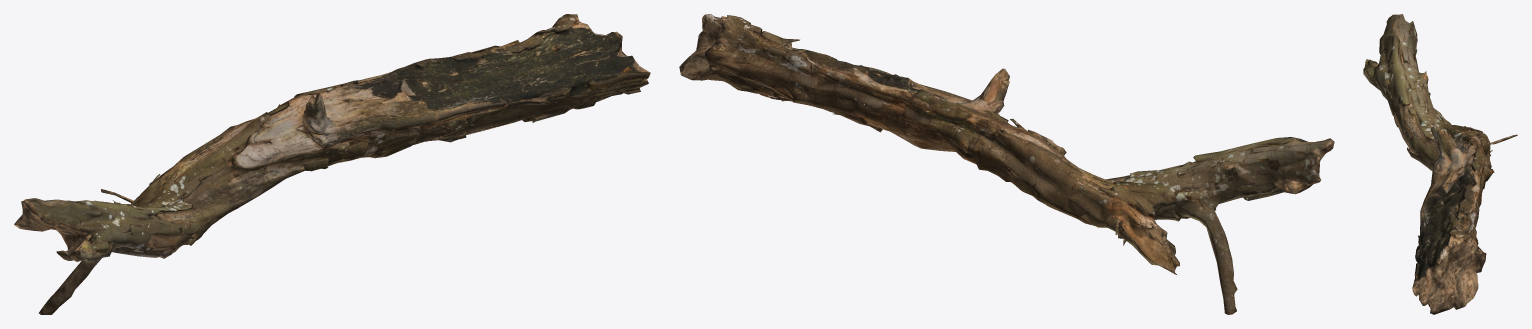
File: trunk2.glb
3 views of the same model, side by side, from view 1: azimuth 30°, elevation 25°; view 2: azimuth 150°, elevation 25°; view 3: azimuth 270°, elevation 25° (orthographic). The views are drawn at different scales.
Parts seen in each view (by area): view 1: trunk2; view 2: trunk2; view 3: trunk2.
Boxes of the visible parts, x1,y1,x2,y2 form: trunk2: (14, 14, 650, 314); trunk2: (679, 14, 1334, 314); trunk2: (1363, 14, 1517, 314).
Bounding box in the file's own units: 4.05 × 1.05 × 1.04.
Materials: 1 (1 with a texture image).
